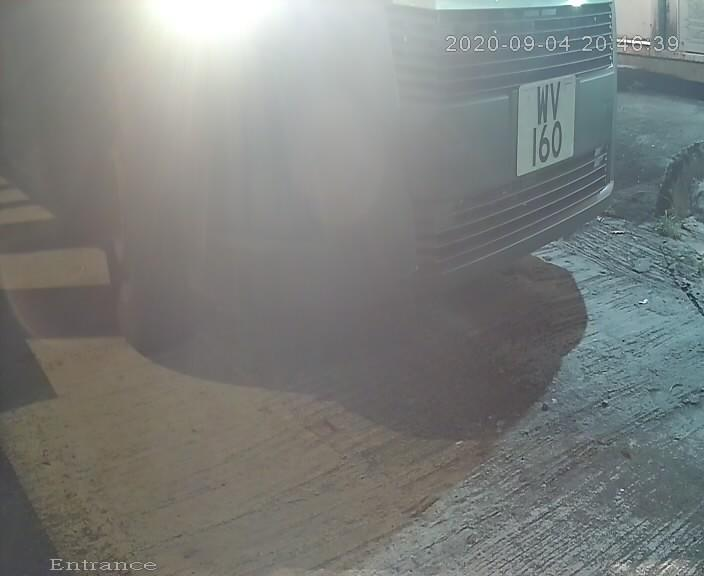License Plate: (500, 65, 585, 186)
